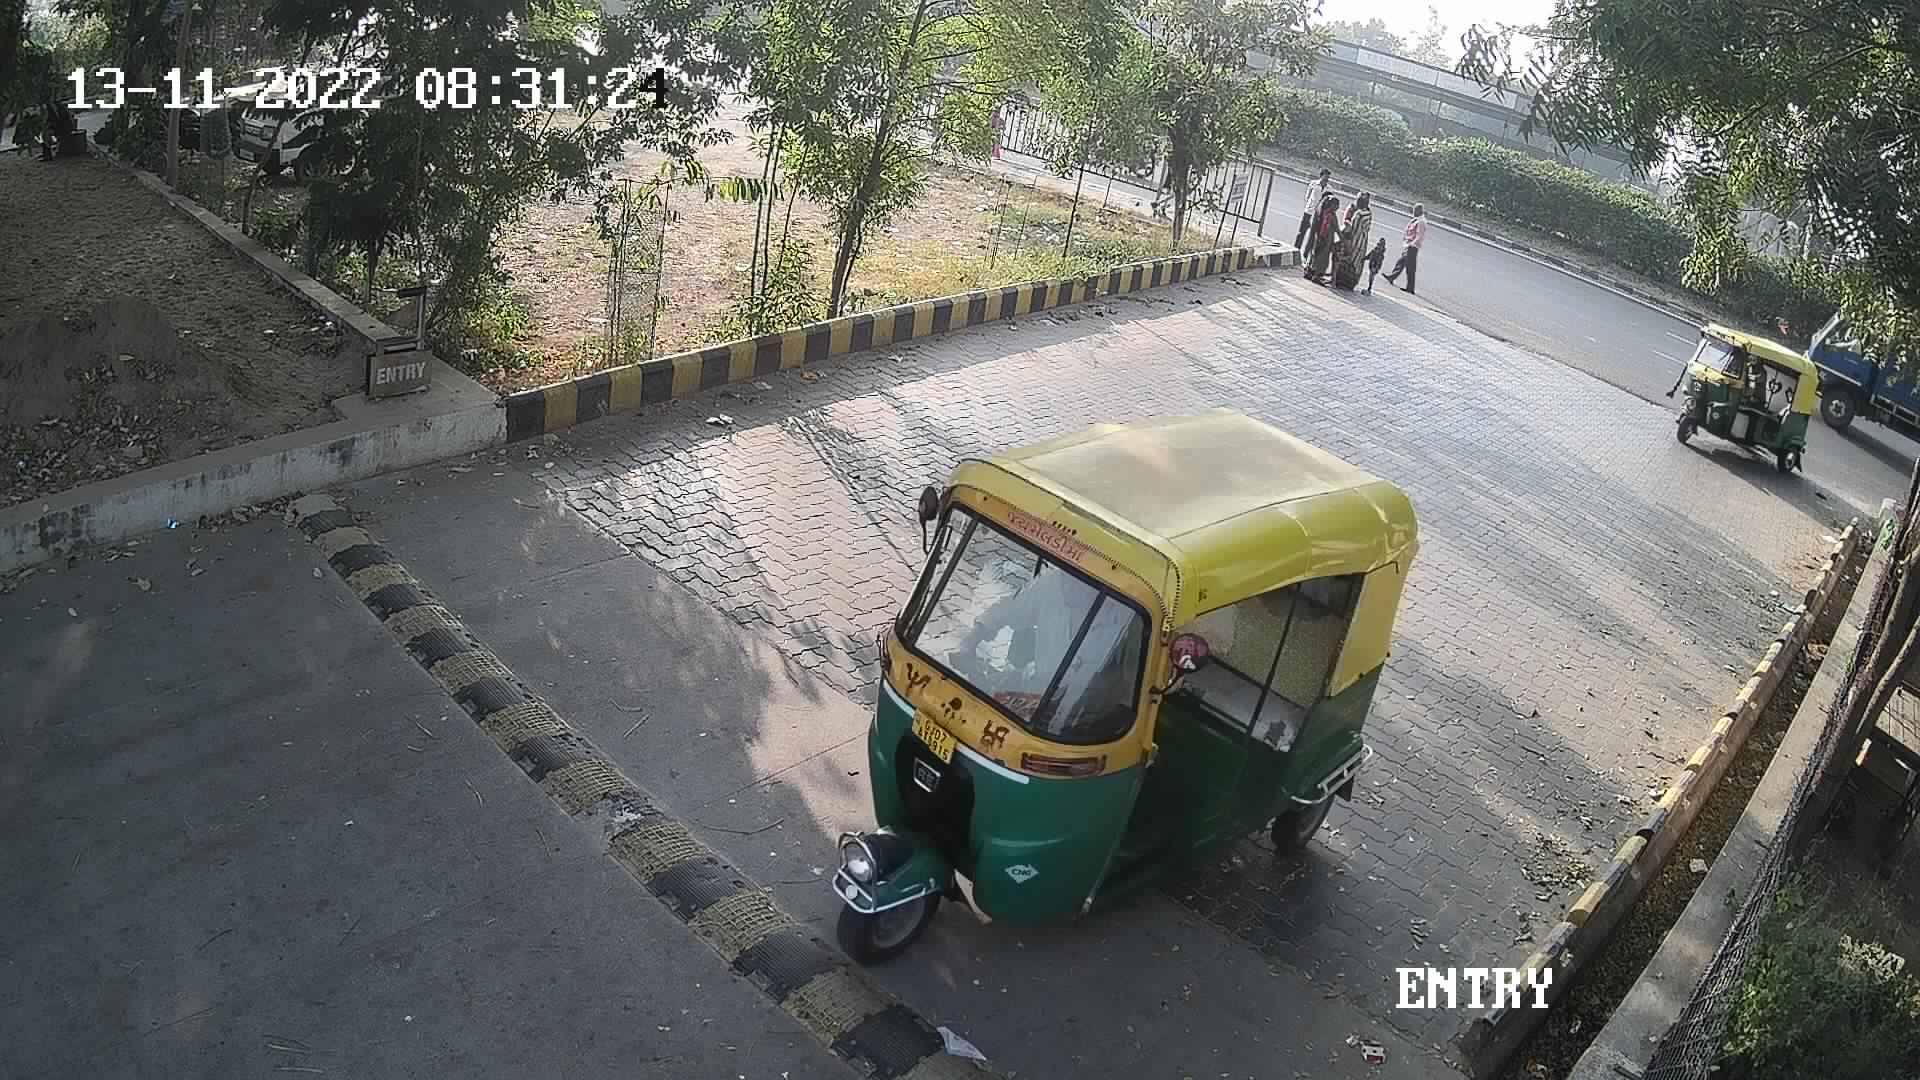Auto: (845, 382, 1420, 973), (1656, 309, 1825, 484)
Car: (225, 45, 344, 198)
HMV: (1793, 281, 1917, 462)
